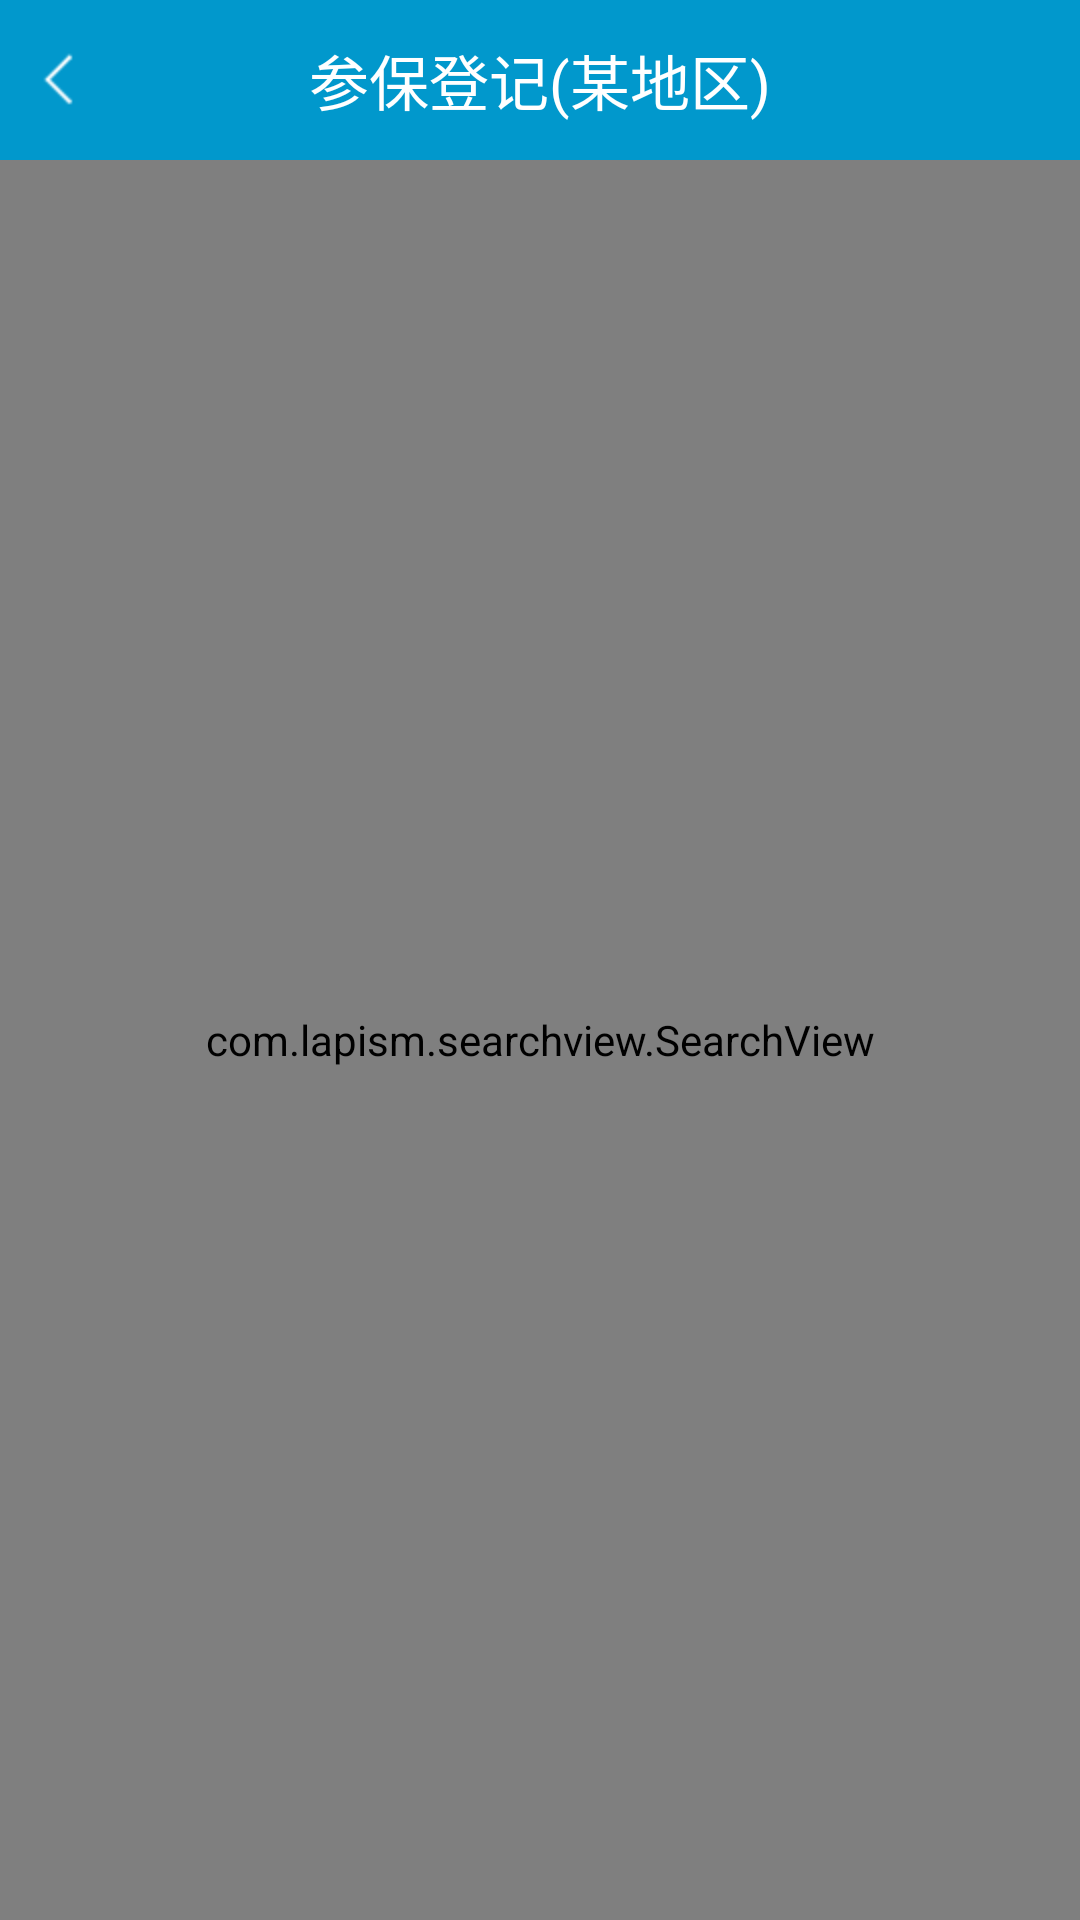

Icon bounding boxes for this 1080 × 1920 phone screenshot, format BBox(x1, y1, x2, y2):
left: BBox(44, 54, 73, 105)
